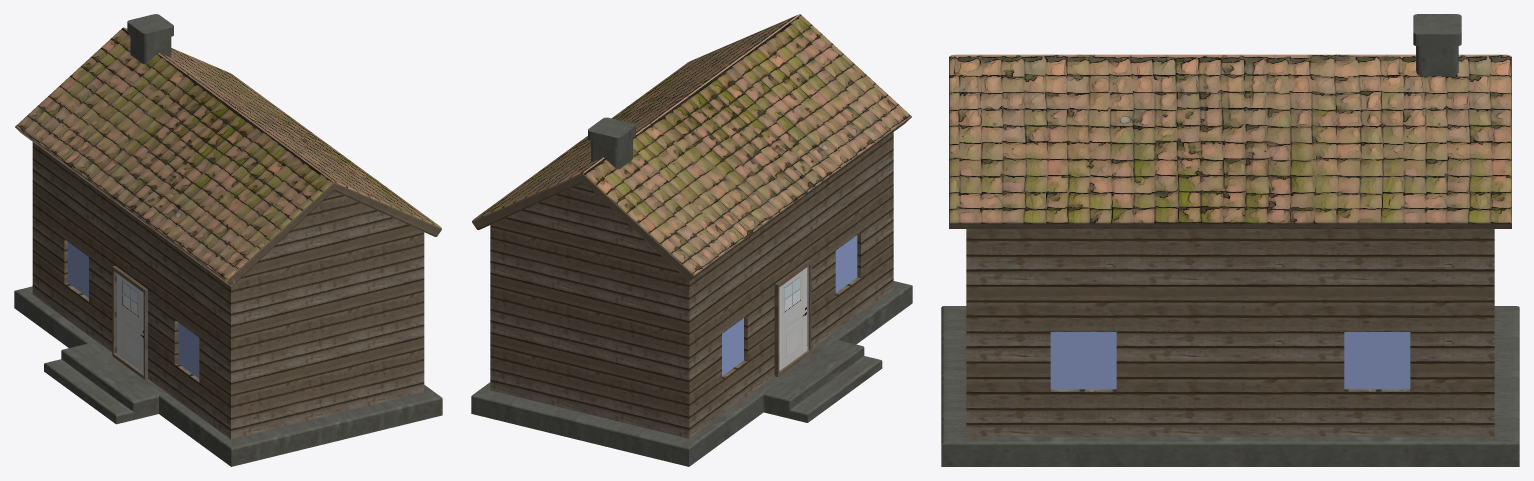
Rendered from House1.fbx.
The picture shows the model from 3 angles, left to right: view 1: azimuth 30°, elevation 25°; view 2: azimuth 150°, elevation 25°; view 3: azimuth 270°, elevation 25°; orthographic projection. The views are drawn at different scales.
Parts seen in each view (by area): view 1: HouseWalls, Roof, Door, Chimney; view 2: HouseWalls, Roof, Door, Chimney; view 3: HouseWalls, Roof, Chimney.
Part boxes in pixels (box(x1,y1,x2,y2)): HouseWalls: box(14, 142, 442, 466); Roof: box(15, 27, 441, 286); Door: box(112, 265, 147, 379); Chimney: box(127, 14, 173, 64); HouseWalls: box(471, 132, 912, 466); Roof: box(472, 14, 911, 281); Door: box(774, 259, 811, 376); Chimney: box(588, 117, 635, 169); HouseWalls: box(941, 229, 1519, 466); Roof: box(949, 54, 1511, 228); Chimney: box(1413, 14, 1461, 76).
Bounding box in the file's own units: 1194 × 1250 × 1750.
